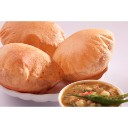poori: (57, 29, 115, 77), (1, 44, 59, 90), (3, 22, 64, 51)
